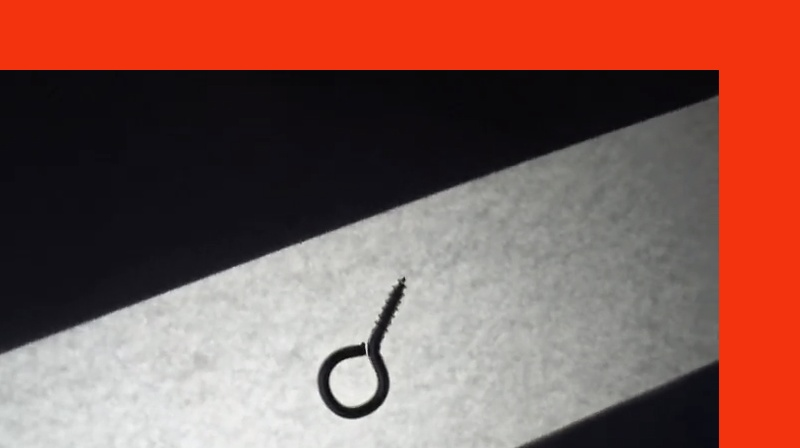O001: (313, 272, 412, 421)
